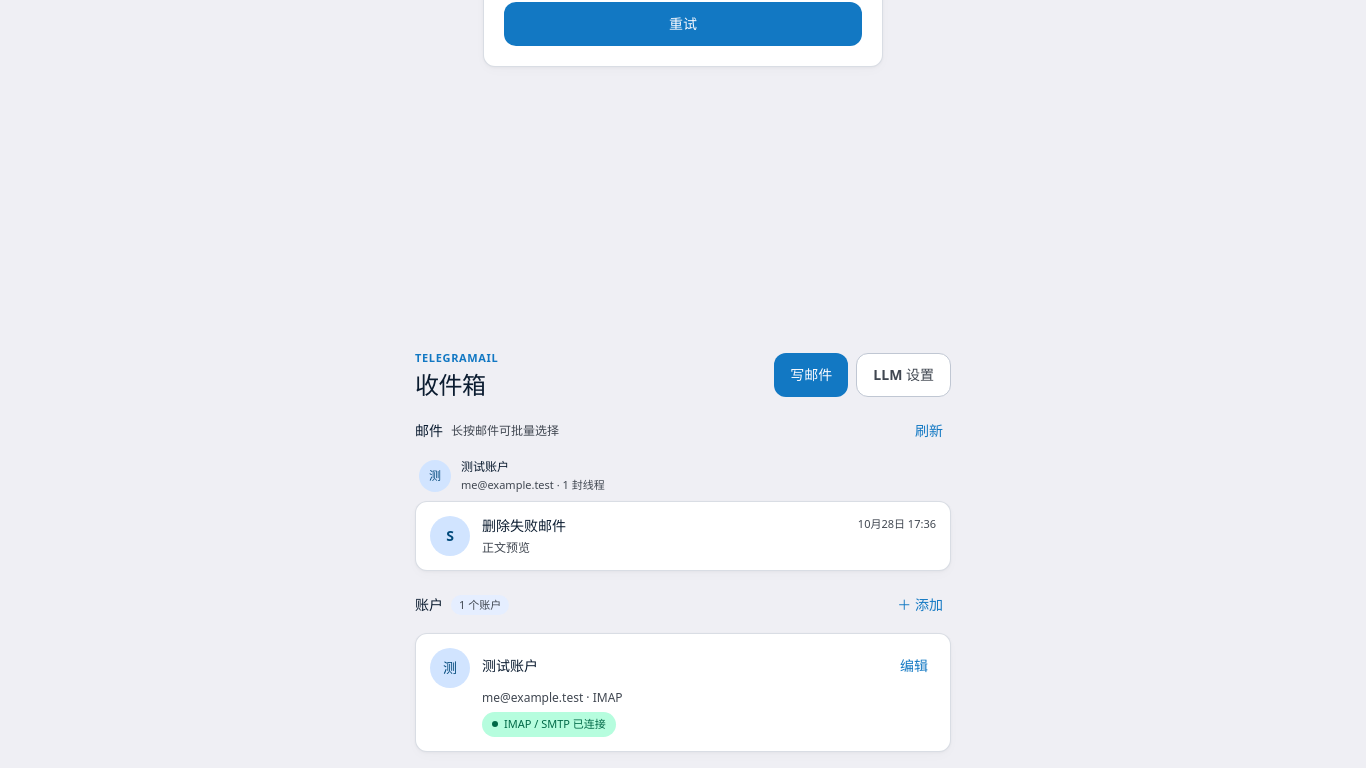
Scenario: Mini App accessibility and destructive action safeguards › keeps a thread visible when the server reports a failed delete operation
The width and height of the screenshot is (1366, 768).
(page scrolled)
Click the button "删除失败邮件". click: {"x": 450, "y": 536}
box: [416,502,950,570]
(page scrolled)
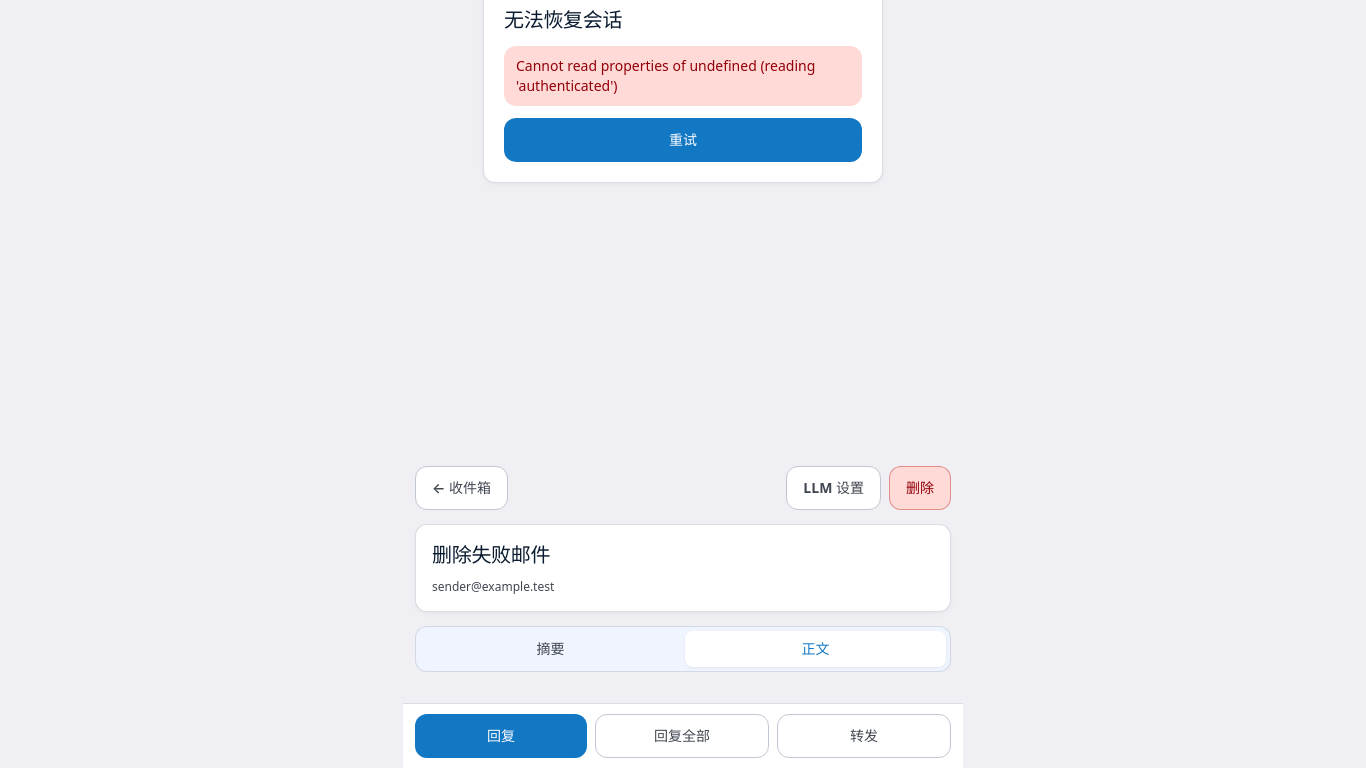
Click the button "删除". click: {"x": 920, "y": 488}
box: [889,466,951,510]
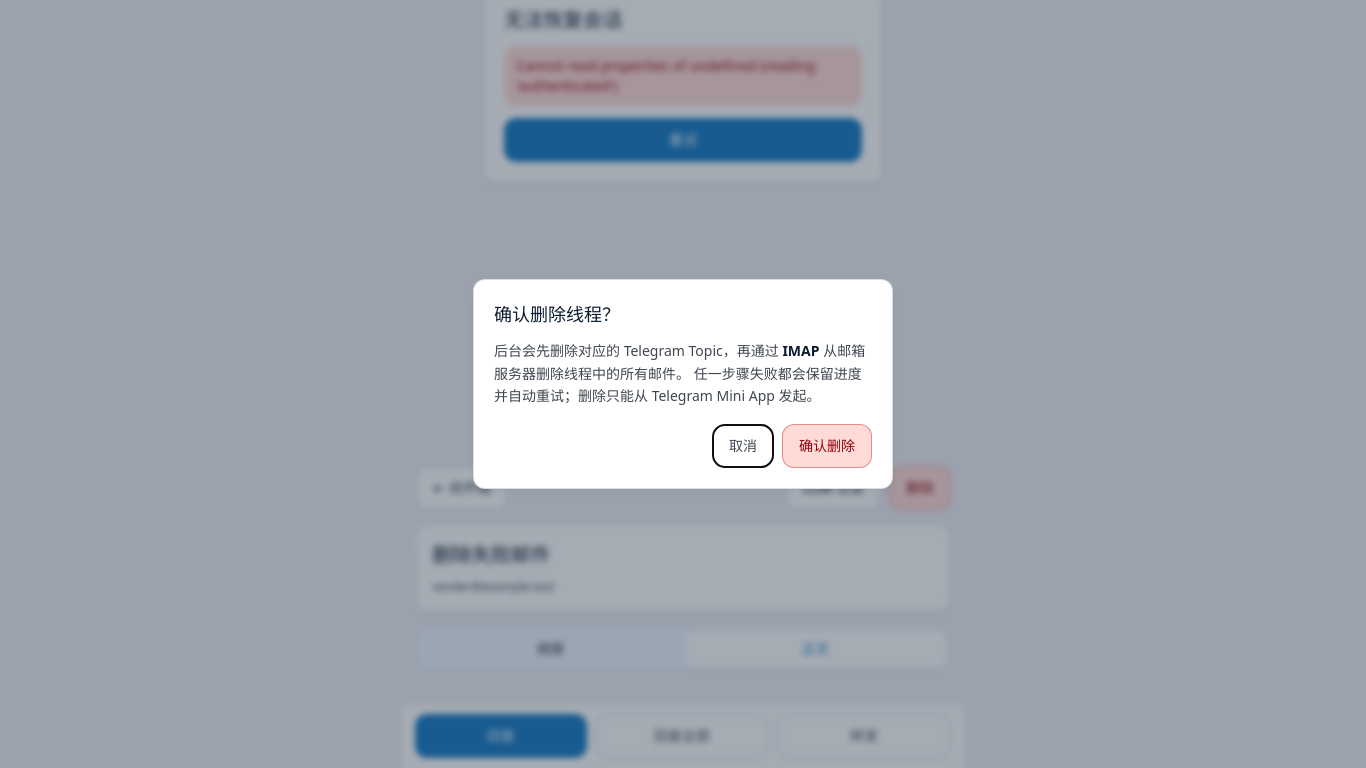
Click the button "确认删除". click: {"x": 827, "y": 446}
box: [782,424,872,468]
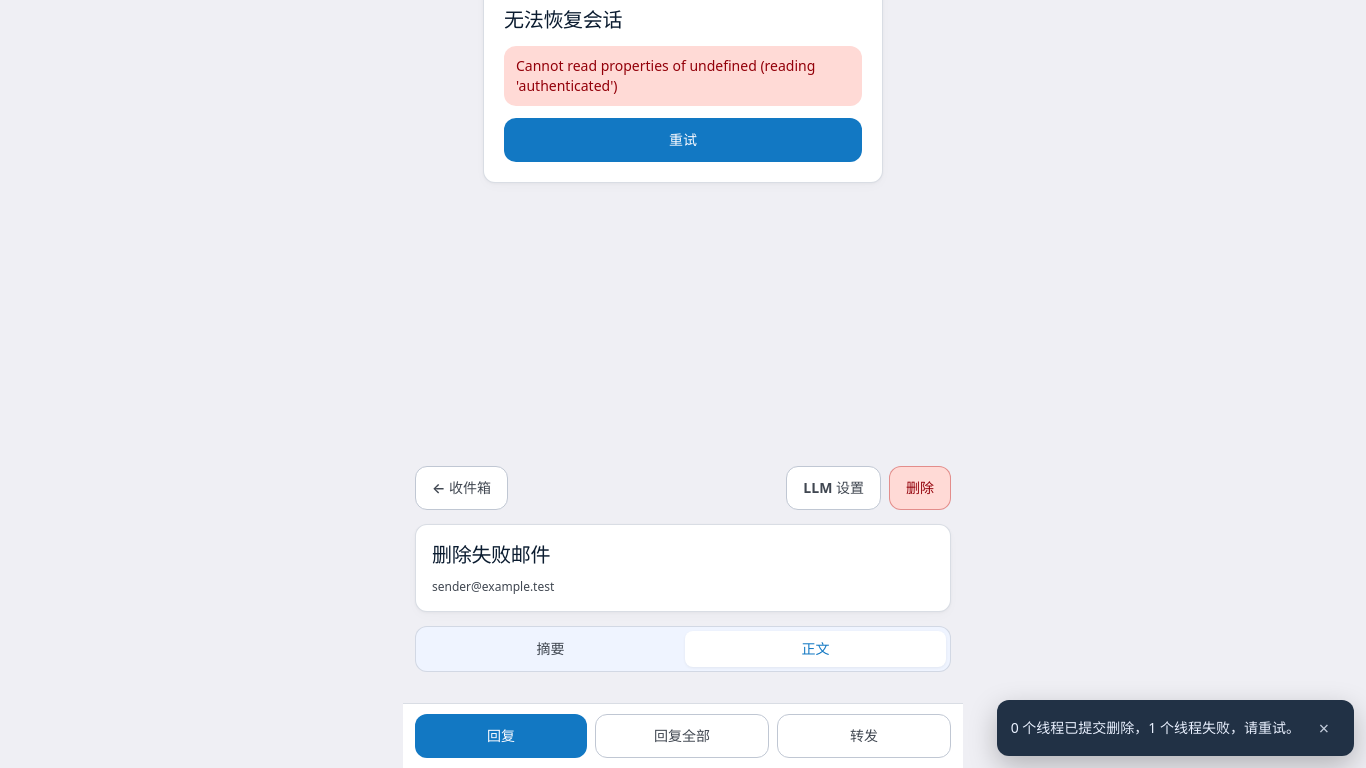
Check: the heading "删除失败邮件" is shown, box [432,541,550,568]
Check: the message "0 个线程已提交删除，1 个线程失败，请重试。 ×" is shown, box [997,700,1354,756]
